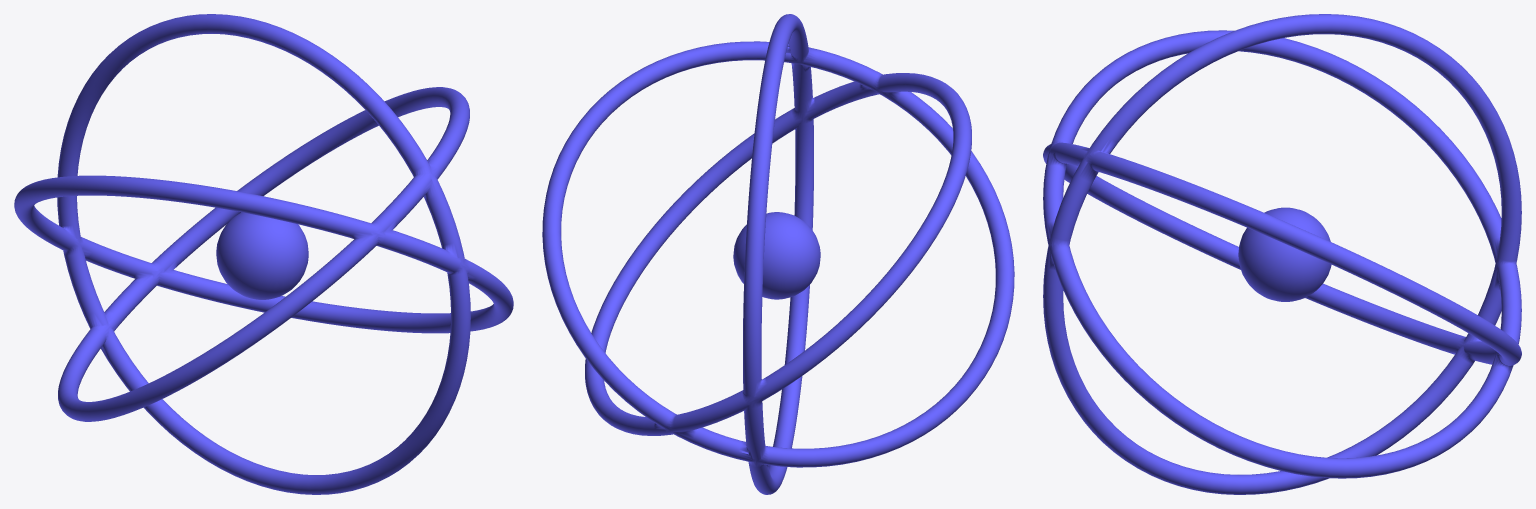
The model's file is react.gltf.
The picture shows the model from 3 angles, left to right: view 1: azimuth 30°, elevation 25°; view 2: azimuth 150°, elevation 25°; view 3: azimuth 270°, elevation 25°; orthographic projection. The views are drawn at different scales.
Parts seen in each view (by area): view 1: Torus.002, Sphere; view 2: Torus.002, Sphere; view 3: Torus.002, Sphere.
Boxes of the visible parts, <box> form: Torus.002: <box>14,14,513,494</box>; Sphere: <box>216,212,308,299</box>; Torus.002: <box>542,14,1014,494</box>; Sphere: <box>733,212,820,299</box>; Torus.002: <box>1043,14,1521,494</box>; Sphere: <box>1238,207,1331,301</box>.
Size of the model in its own units: 0.491 by 0.5511 by 0.5071.
